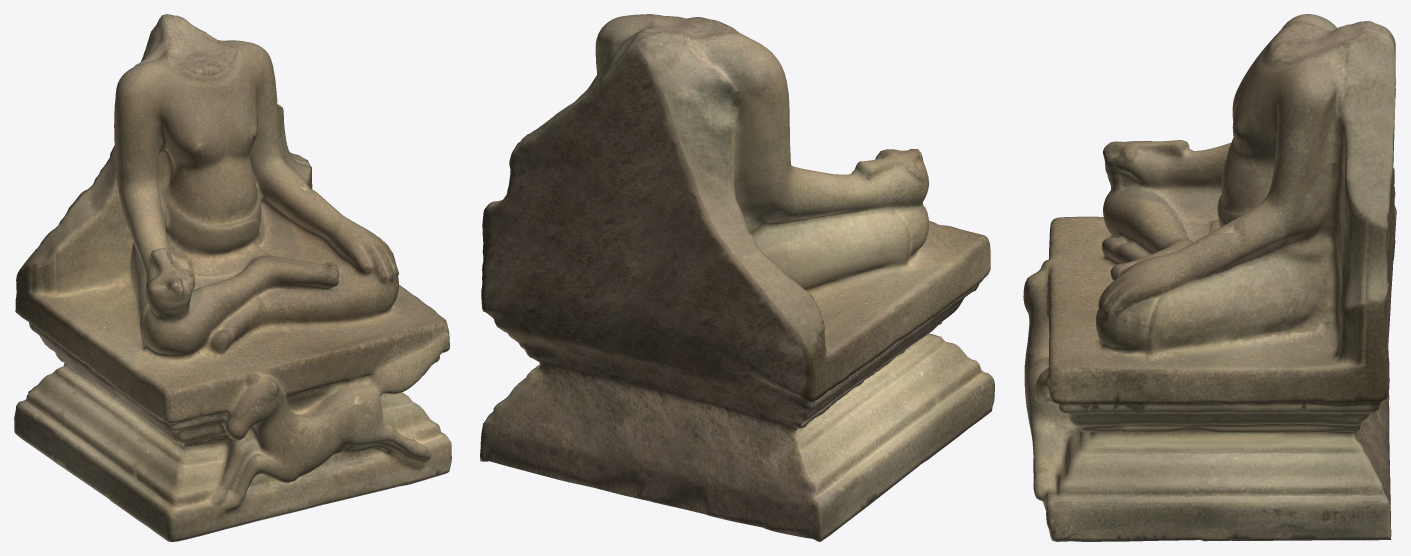
File: 13_thanphuonghuong_VAYU_final.glb
3 renders of one model, left to right at view 1: azimuth 30°, elevation 25°; view 2: azimuth 150°, elevation 25°; view 3: azimuth 270°, elevation 25°, orthographic. The views are drawn at different scales.
Bounding box in the file's own units: 0.3701 × 0.4724 × 0.3635.
1 material, 1 textured.
